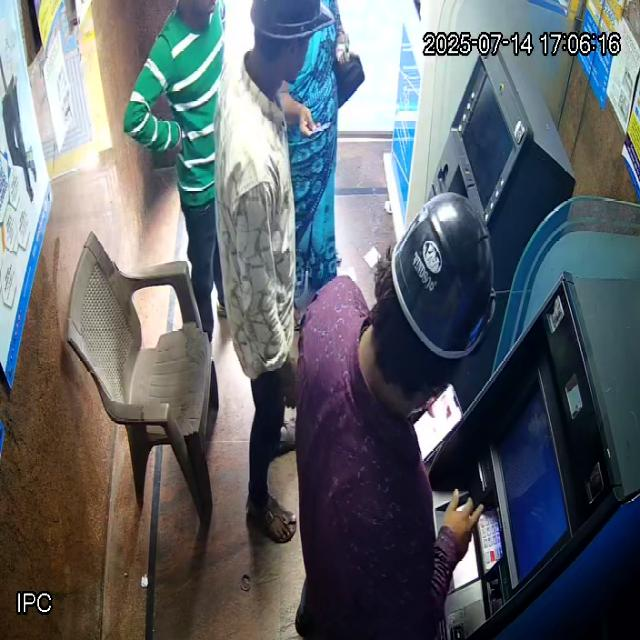helmet: (359, 192, 495, 417), (245, 0, 335, 100)
